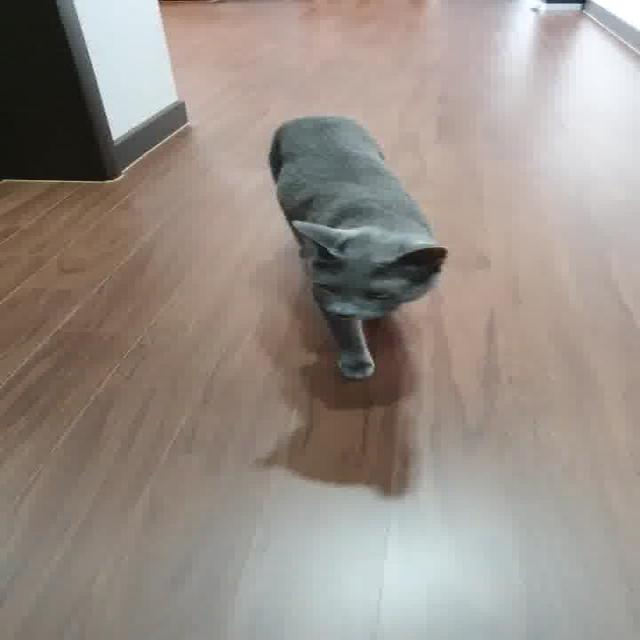cat: (230, 102, 456, 394)
